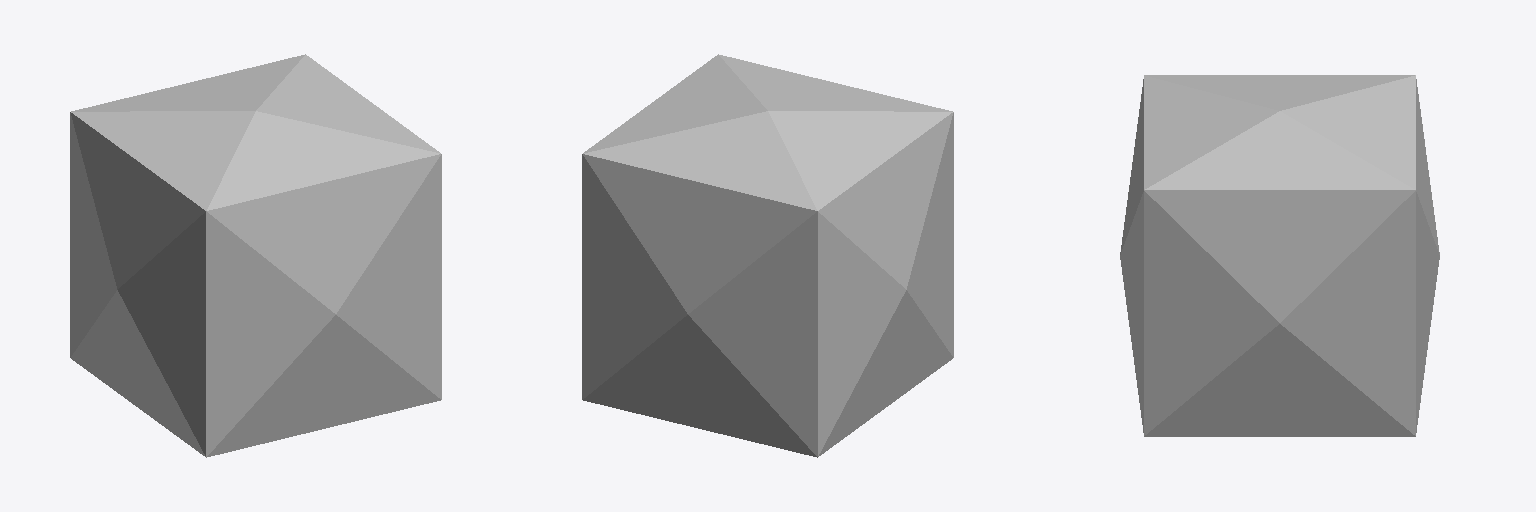
Rendered from crackattackcubemedres_tex.obj.
The picture shows the model from 3 angles: view 1: azimuth 30°, elevation 25°; view 2: azimuth 150°, elevation 25°; view 3: azimuth 270°, elevation 25°; orthographic projection.
Visible parts, largest first — view 1: cube1; view 2: cube1; view 3: cube1.
Part boxes in pixels (x1,y1,x2,y2): cube1: (70,54,441,457); cube1: (582,54,953,457); cube1: (1120,75,1439,436).
Bounding box in the file's own units: 2 × 2 × 2.